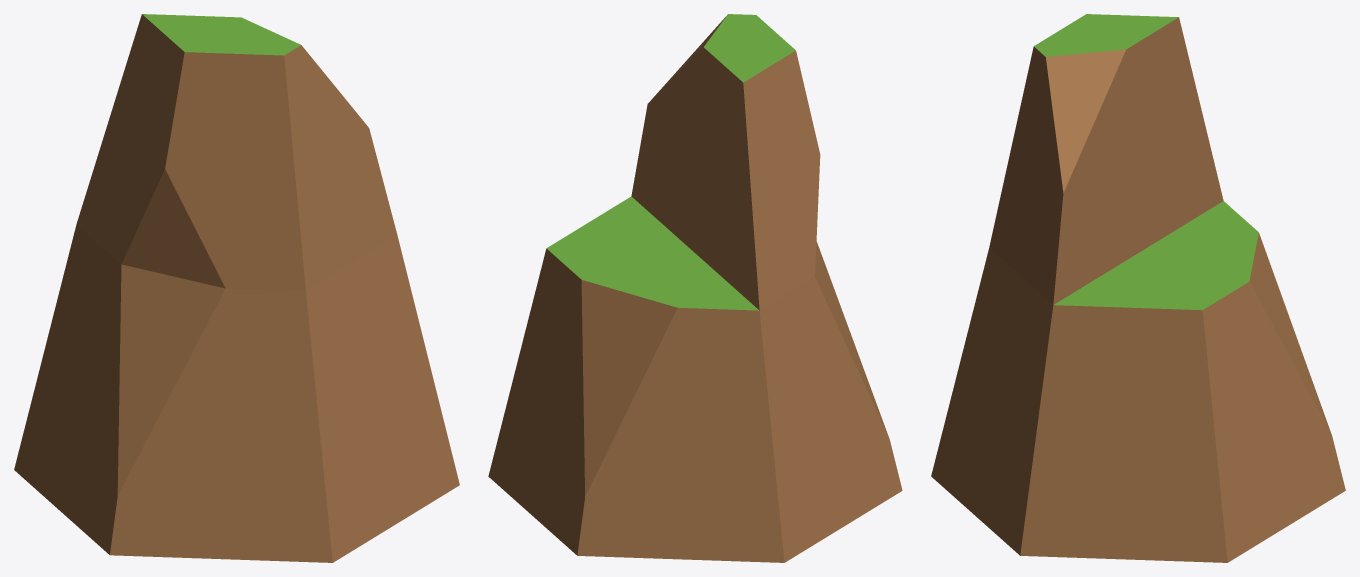
Rendered from rock_tallJ.glb.
3 renders of one model, left to right at view 1: azimuth 30°, elevation 25°; view 2: azimuth 150°, elevation 25°; view 3: azimuth 270°, elevation 25°, orthographic. The views are drawn at different scales.
Parts seen in each view (by area): view 1: rock_tallJ; view 2: rock_tallJ; view 3: rock_tallJ.
Boxes of the visible parts, bbox=[...] form: rock_tallJ: bbox=[14, 14, 459, 562]; rock_tallJ: bbox=[488, 14, 902, 562]; rock_tallJ: bbox=[931, 14, 1345, 562].
Bounding box in the file's own units: 0.4879 × 0.62 × 0.5382.
